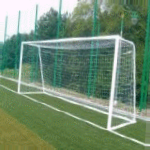goals: (18, 33, 139, 134)
